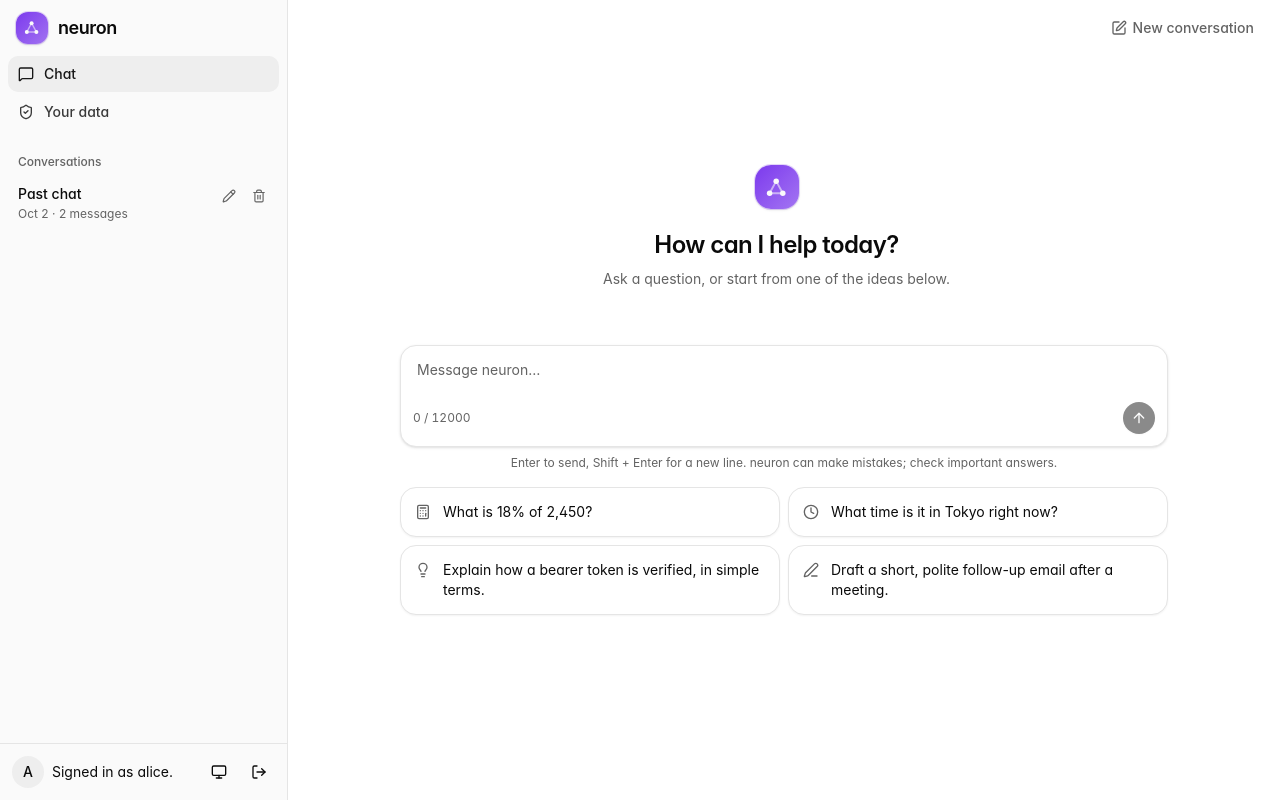
Test case: opening a conversation › rates an answer from an earlier session by the run ID the server reported
Click the button with aria-label "Open Past chat". click: (50, 194)
box: [8, 176, 279, 230]
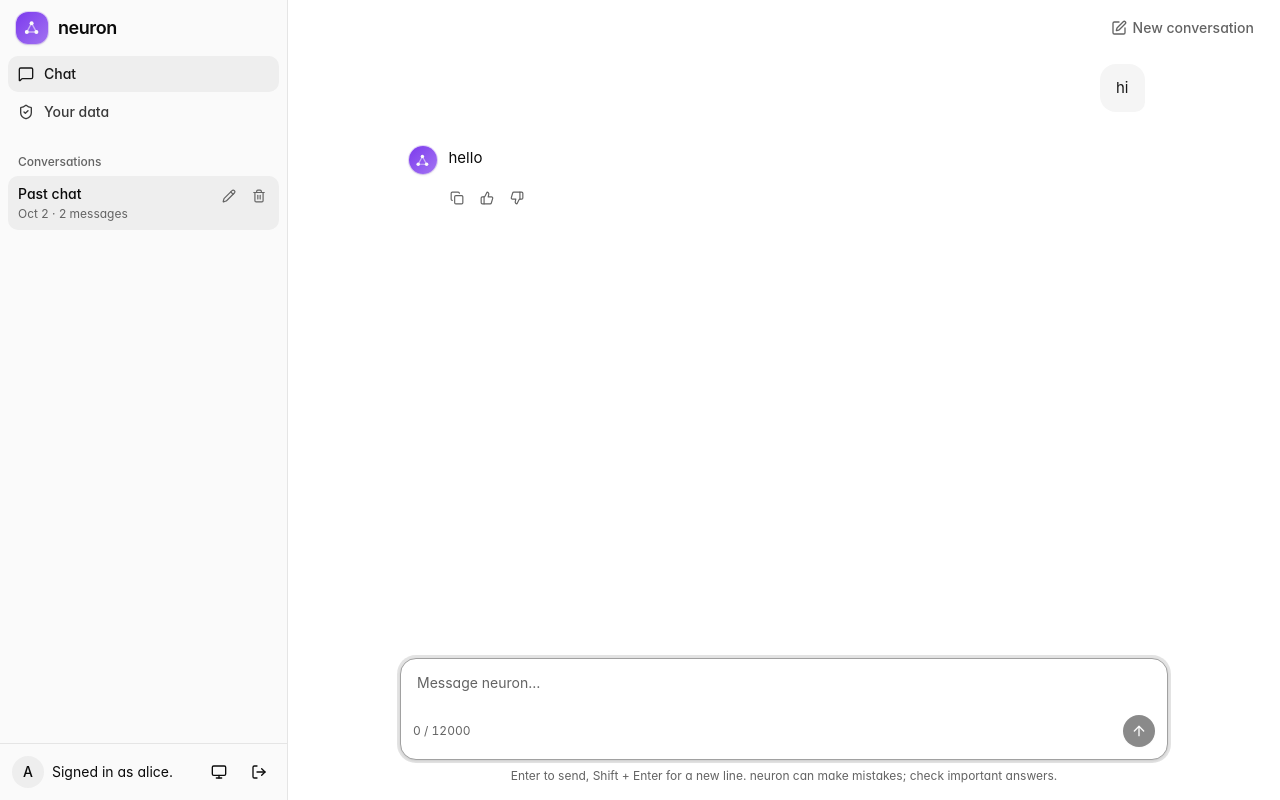
Result: the text "hello" is shown at [448, 148, 482, 167]
Result: the number of buttons named "Helpful" is 1
Click the button named "Helpful". click: (486, 198)
box: [472, 184, 500, 212]
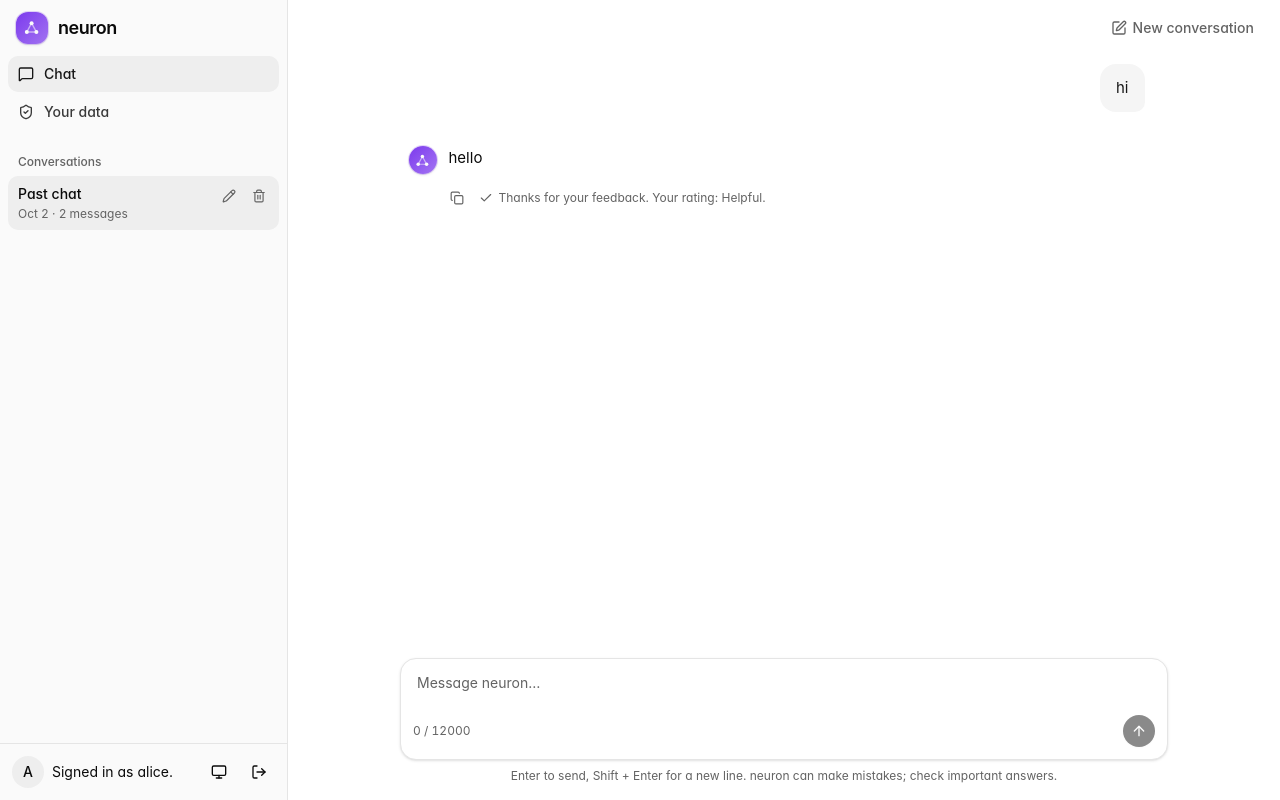
Result: the text "Thanks for your feedback. Your rating: Helpful." is shown at [472, 190, 772, 206]
